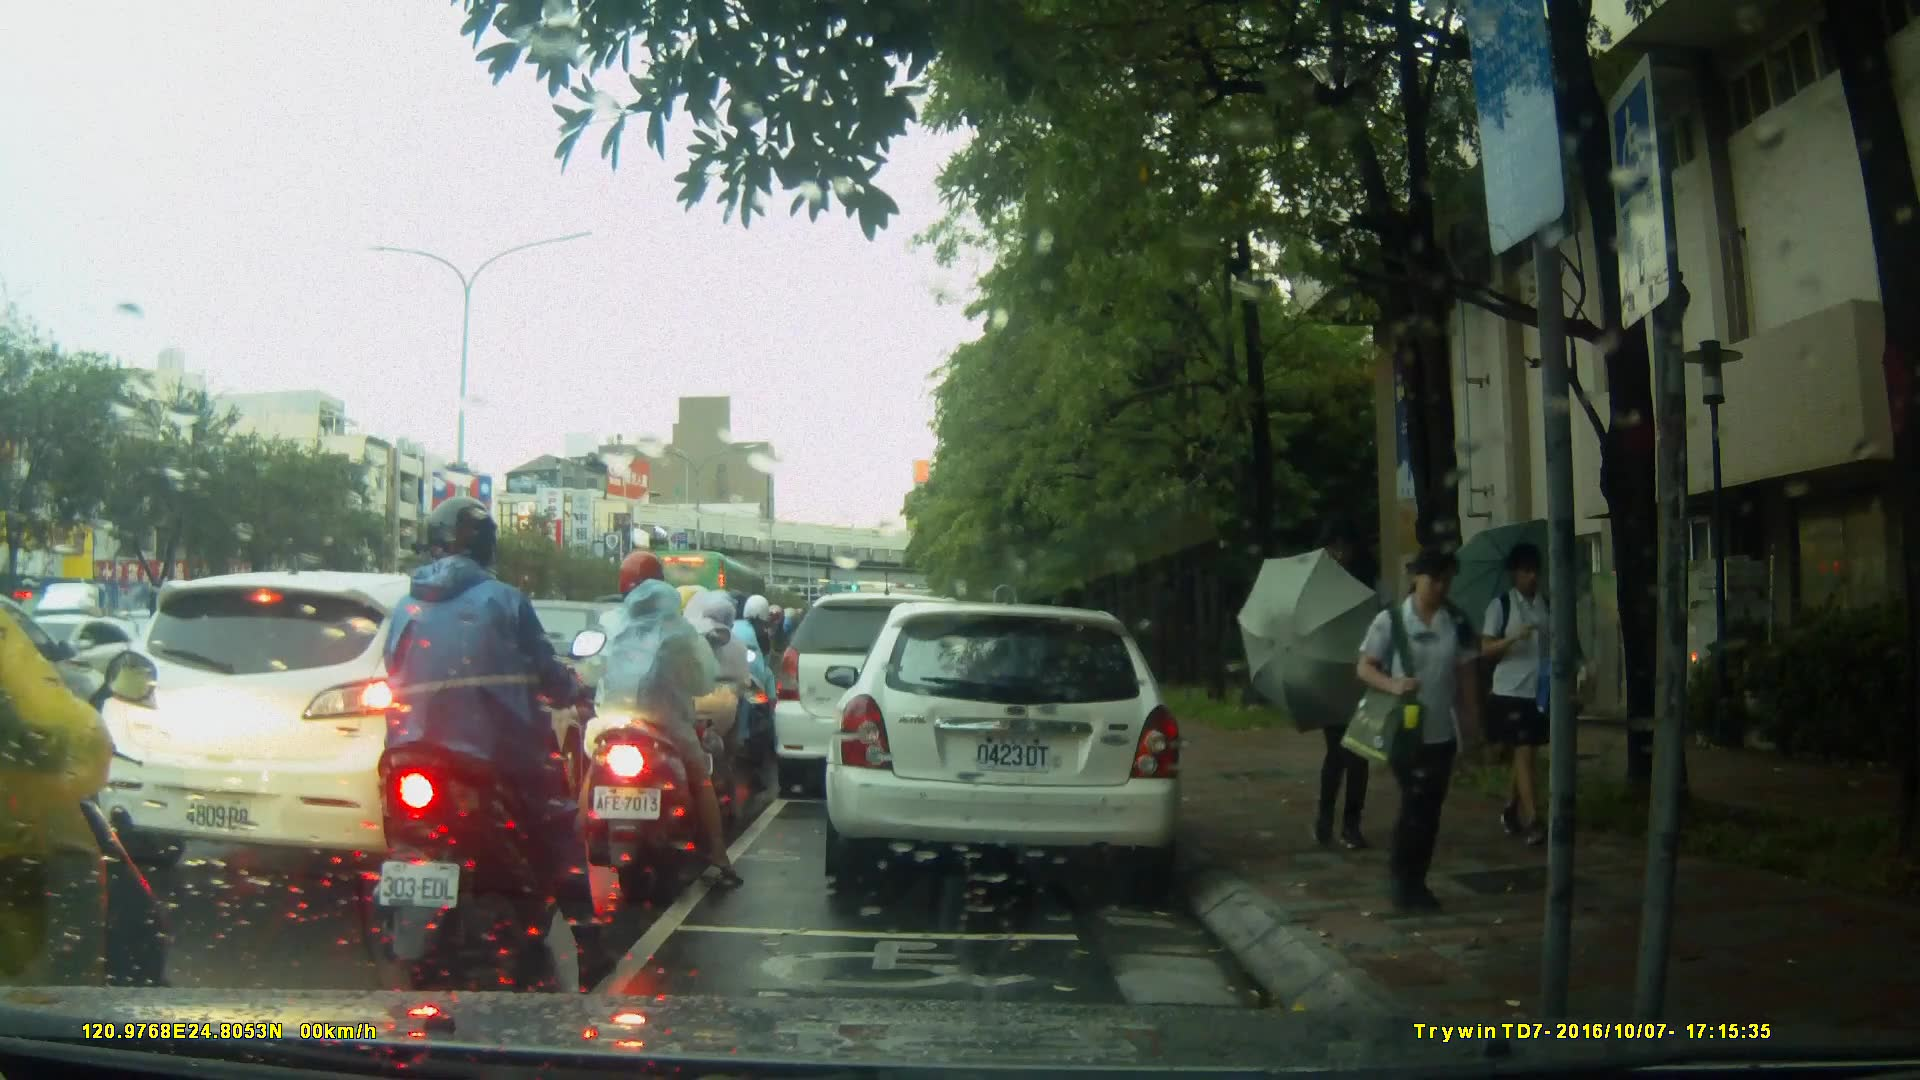pedestrian: (1340, 543, 1486, 910), (1477, 530, 1574, 853), (1306, 521, 1384, 872)
rider: (376, 493, 614, 969), (1, 455, 179, 1080), (571, 557, 746, 894), (640, 580, 764, 823), (706, 594, 786, 770)
vehicle: (95, 569, 617, 883), (822, 604, 1188, 883), (774, 595, 995, 802), (28, 616, 166, 713)
